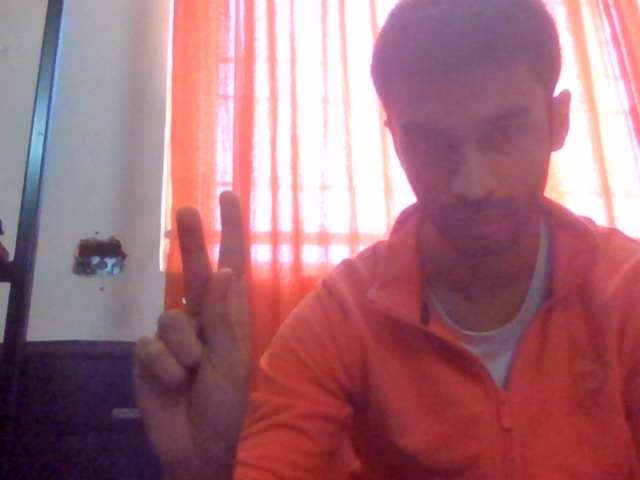K: (99, 184, 317, 480)
